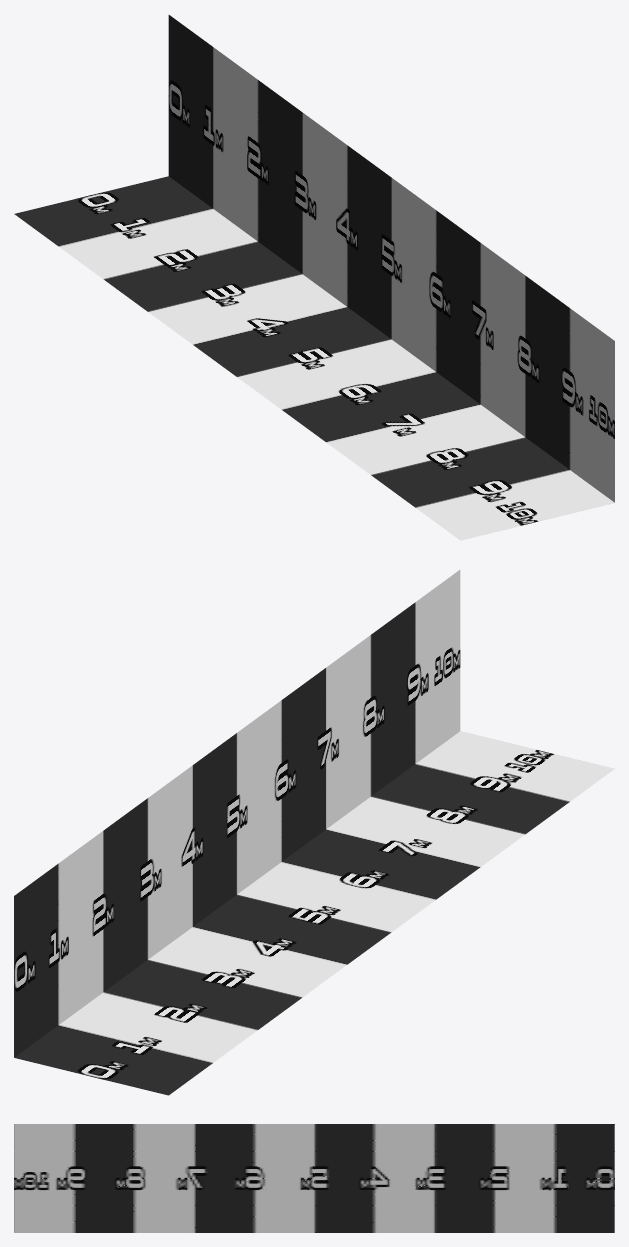
Rendered from 10Meter.FBX.
3 views of the same model, one above another, from view 1: azimuth 30°, elevation 25°; view 2: azimuth 150°, elevation 25°; view 3: azimuth 270°, elevation 25° (orthographic). The views are drawn at different scales.
Parts seen in each view (by area): view 1: Plane002, Plane001; view 2: Plane002, Plane001; view 3: Plane002.
Part boxes in pixels (x1=…): Plane002: x1=168, y1=15, x2=614, y2=502; Plane001: x1=14, y1=176, x2=614, y2=540; Plane002: x1=14, y1=570, x2=460, y2=1057; Plane001: x1=14, y1=731, x2=614, y2=1095; Plane002: x1=14, y1=1124, x2=614, y2=1232.
Size of the model in its own units: 2 by 2 by 10.
